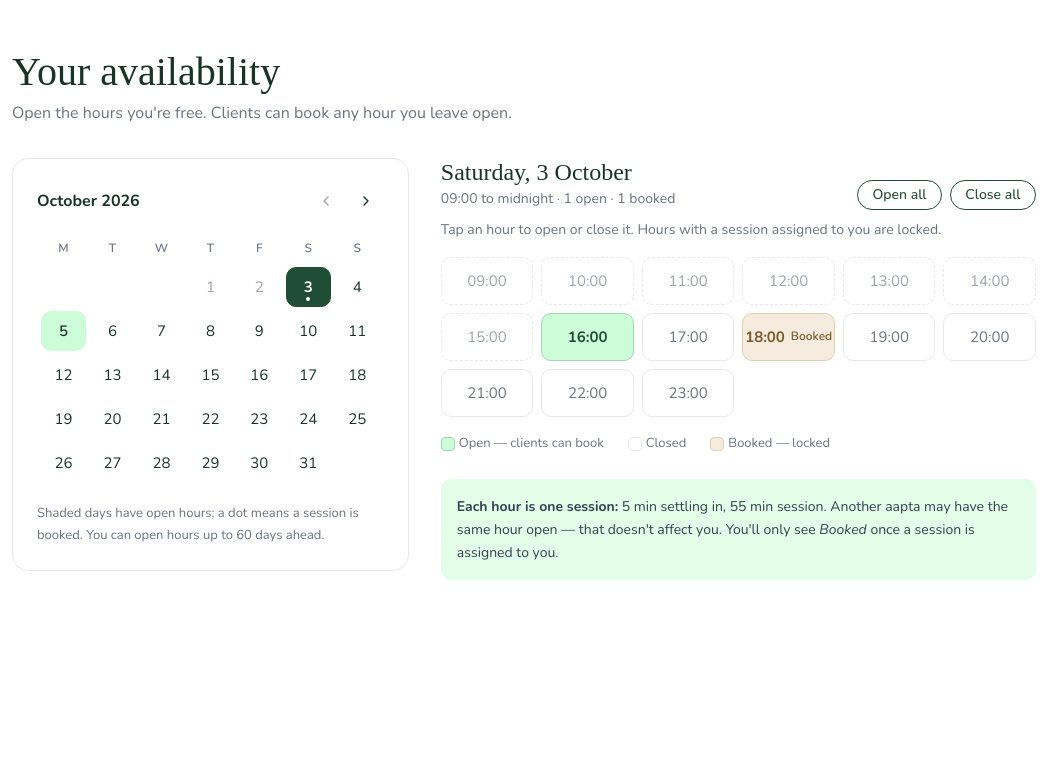
Test case: AvailabilityPageComponent › opens every free hour of the day at once
Click the button "Open all": (900, 195) left=857, top=180, right=942, bottom=210
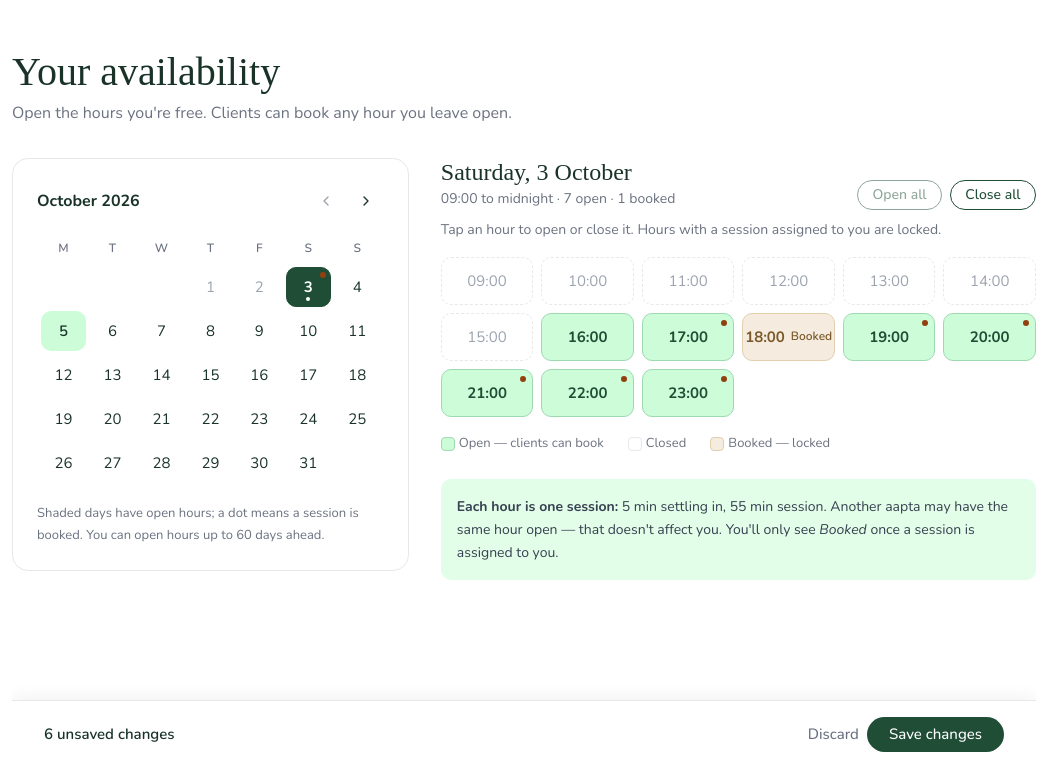
Expected: the text "6 unsaved changes" is shown, left=44, top=722, right=174, bottom=747
